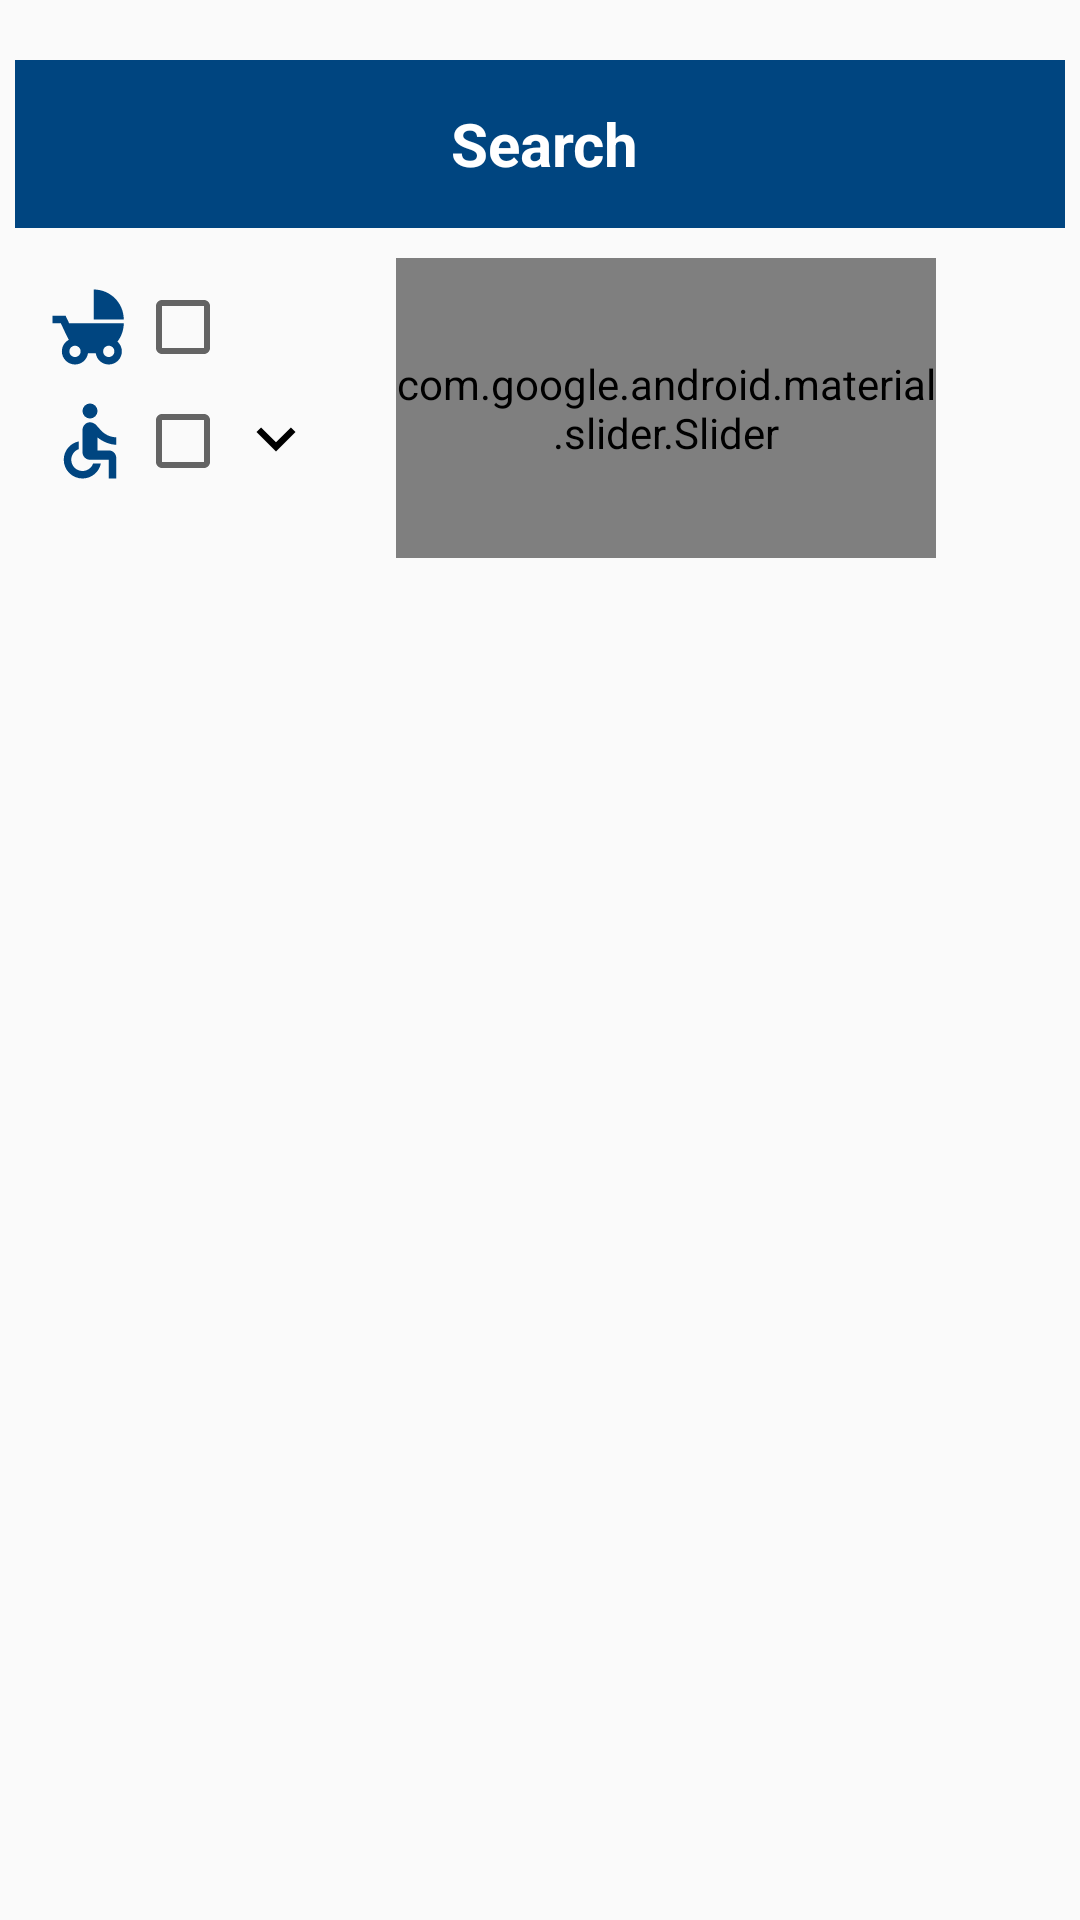

Where icons sit on this 1080×1920 app screen, as (x1, y1, x2, y2):
accessible: (63, 403, 117, 479)
arrow down: (256, 427, 296, 452)
child friendly: (52, 289, 124, 365)
